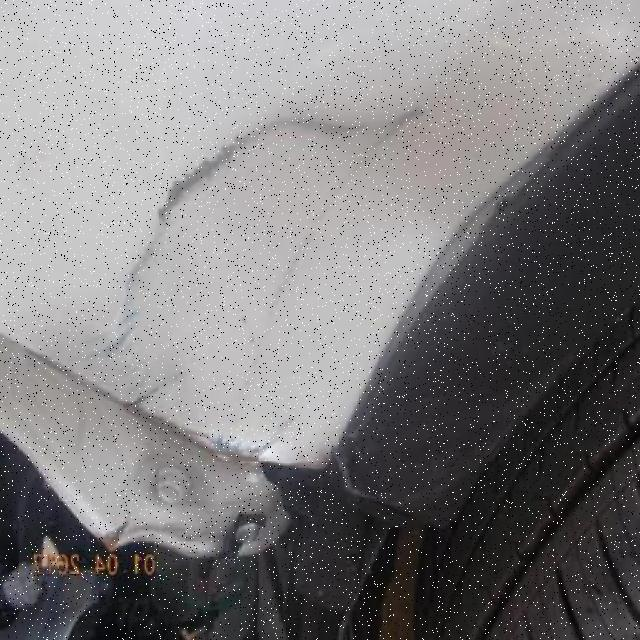damage: (9, 93, 432, 470), (97, 501, 201, 554)
